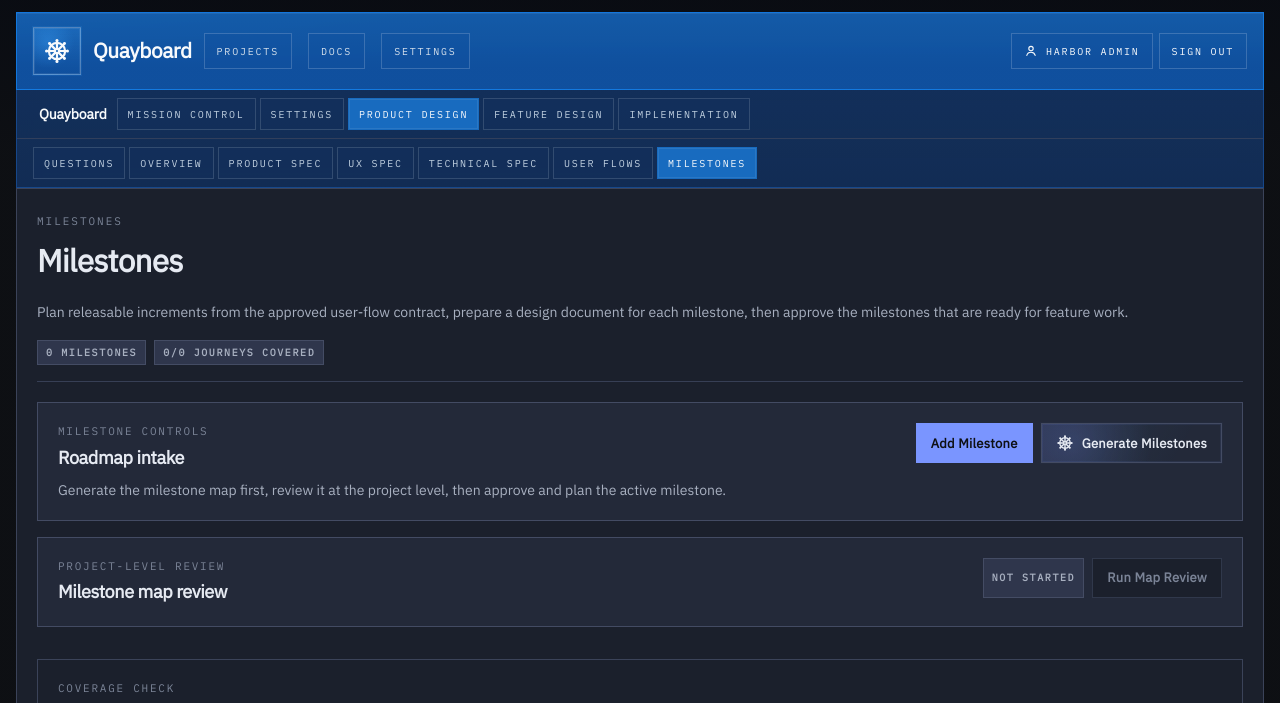
Scenario: workflow pages › reveals the create milestone panel and submits linked flows as checkboxes
Expected: the heading "Milestones" is shown, [37, 240, 183, 280]
Expected: the field labelled "Title" is not shown
Click the button "Add Milestone" at (974, 443), box [916, 423, 1033, 463]
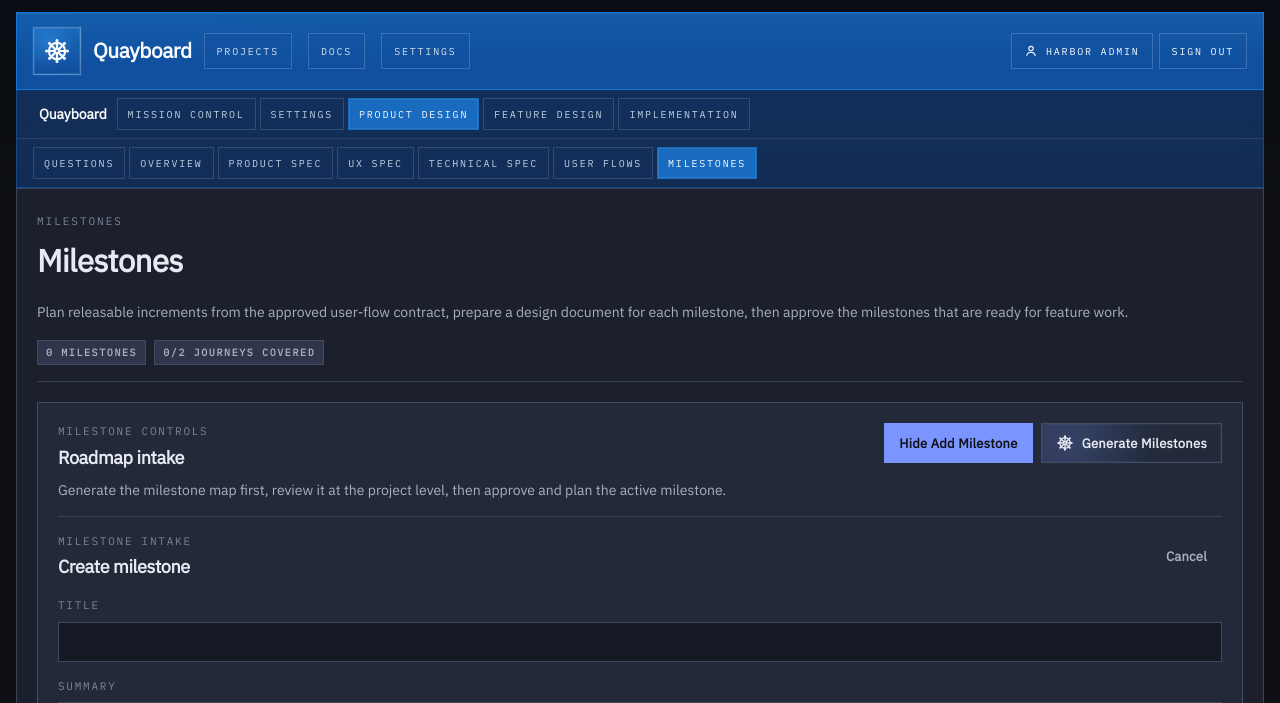
Result: the field labelled "Title" is shown
Type "Release Foundations" into the field labelled "Title" at (640, 642), box [58, 622, 1222, 662]
(page scrolled)
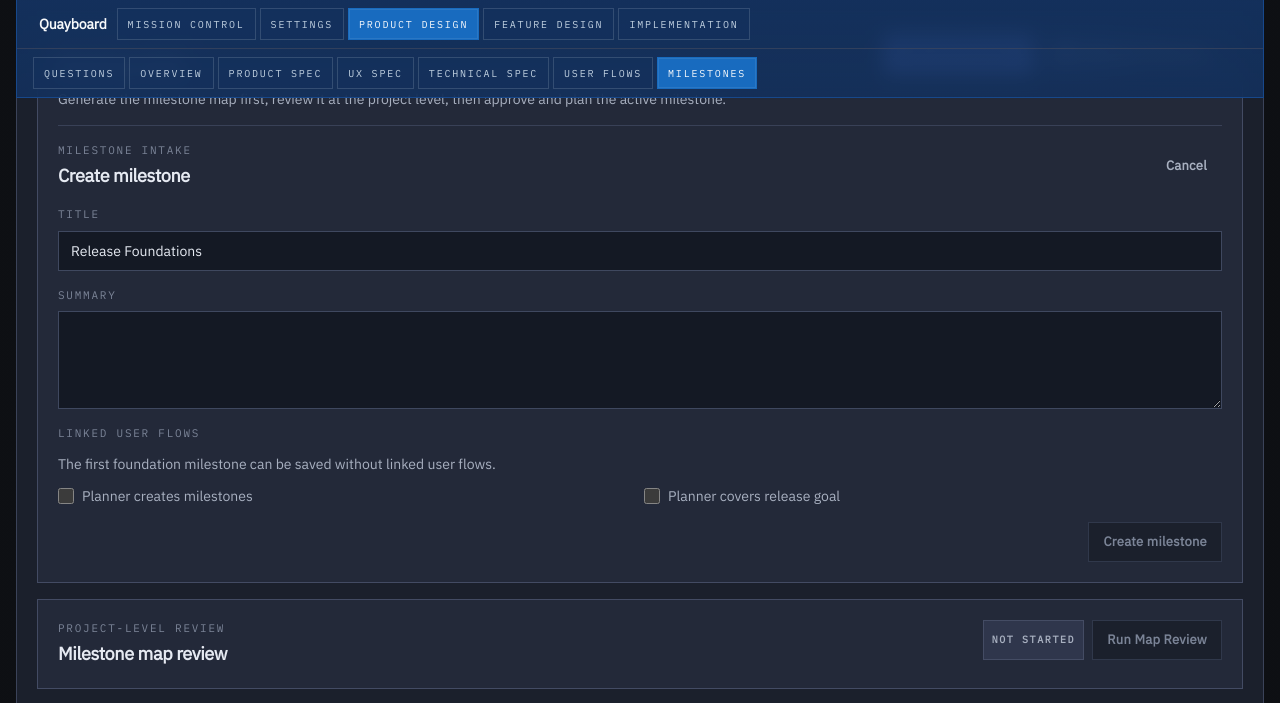
Type "Ship the first release increment." into the text box labelled "Summary" at (640, 360), box [58, 311, 1222, 409]
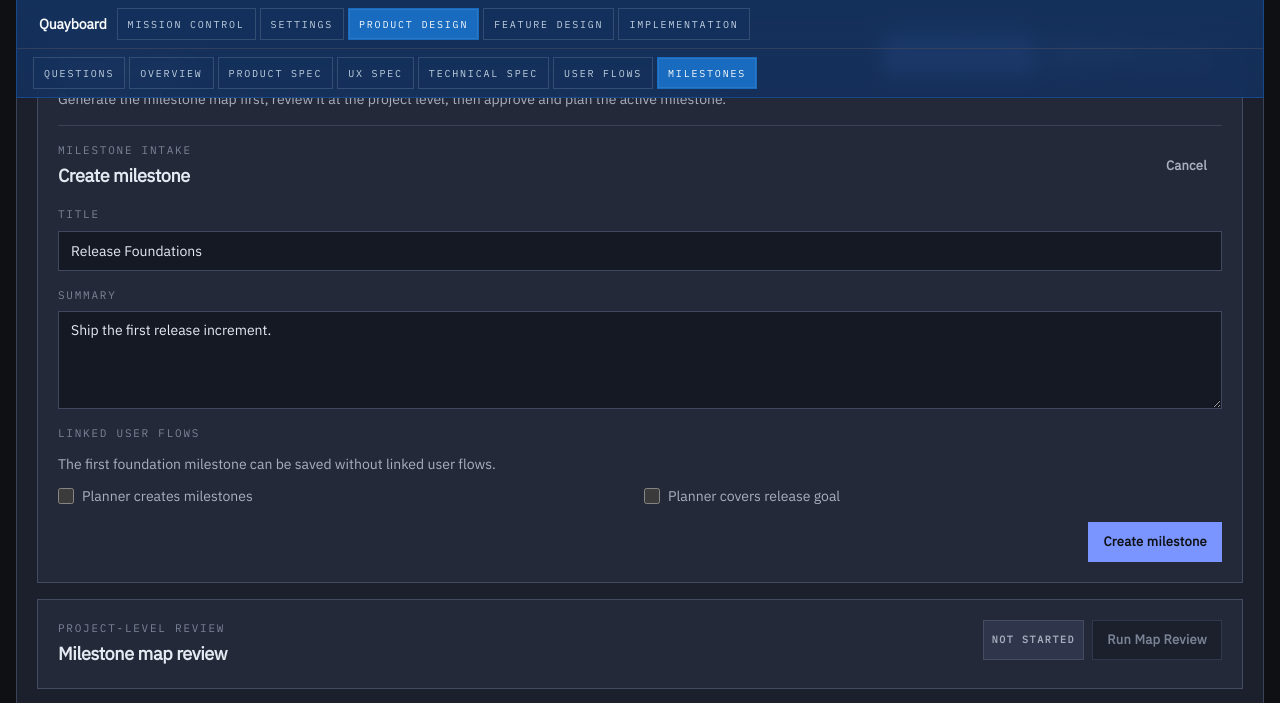
Click the checkbox labelled "Planner creates milestones" at (66, 496), box [58, 488, 74, 504]
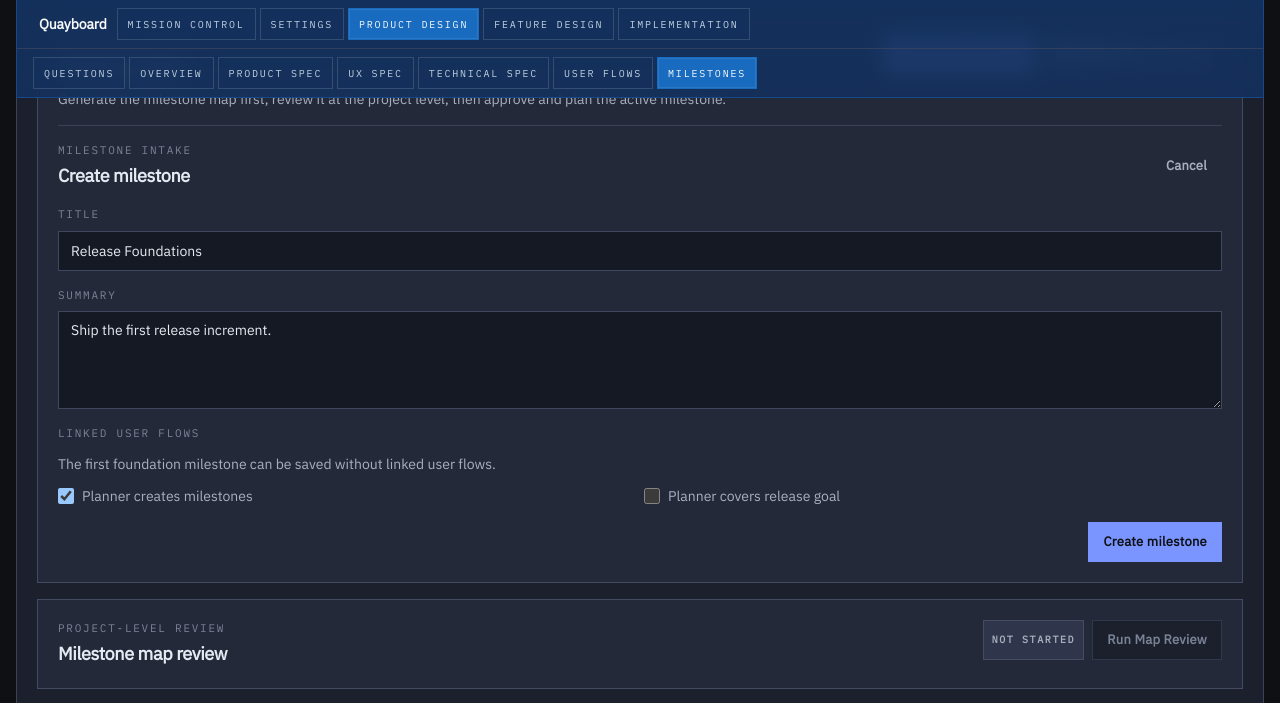
Click the checkbox labelled "Planner covers release goal" at (652, 496), box [644, 488, 660, 504]
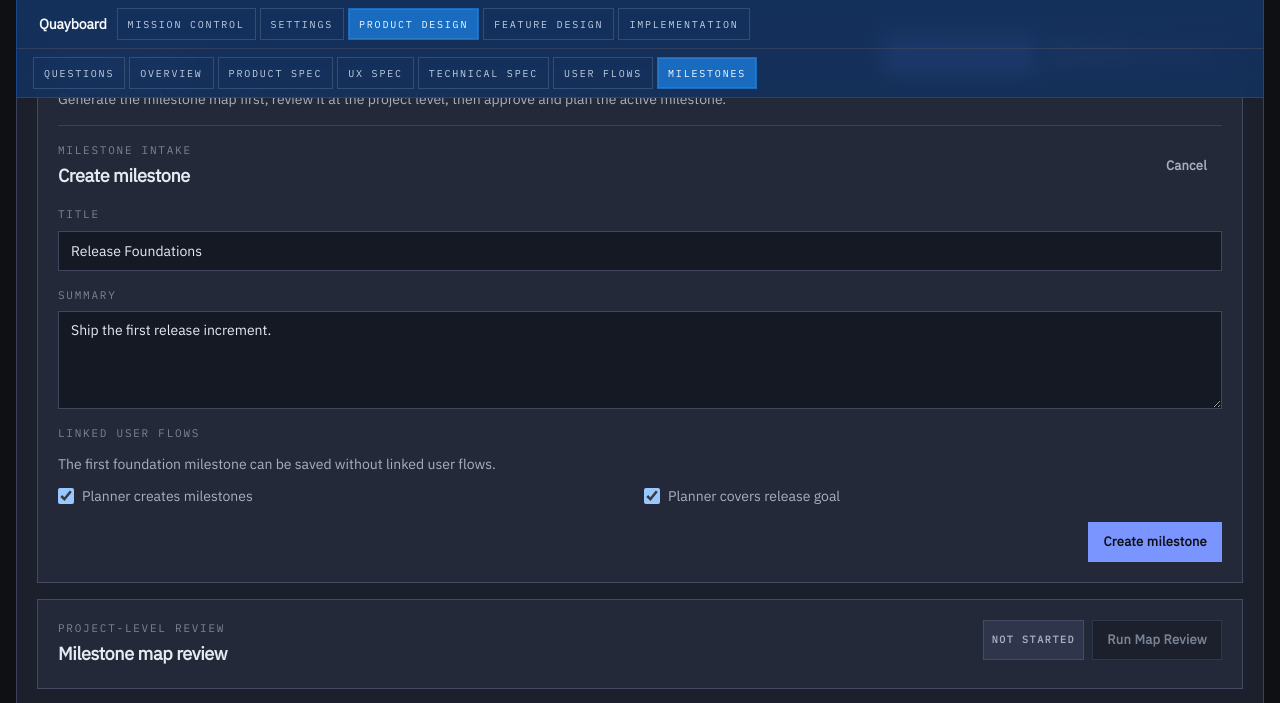
Click the button "Create milestone" at (1155, 542), box [1088, 522, 1222, 562]
(page scrolled)
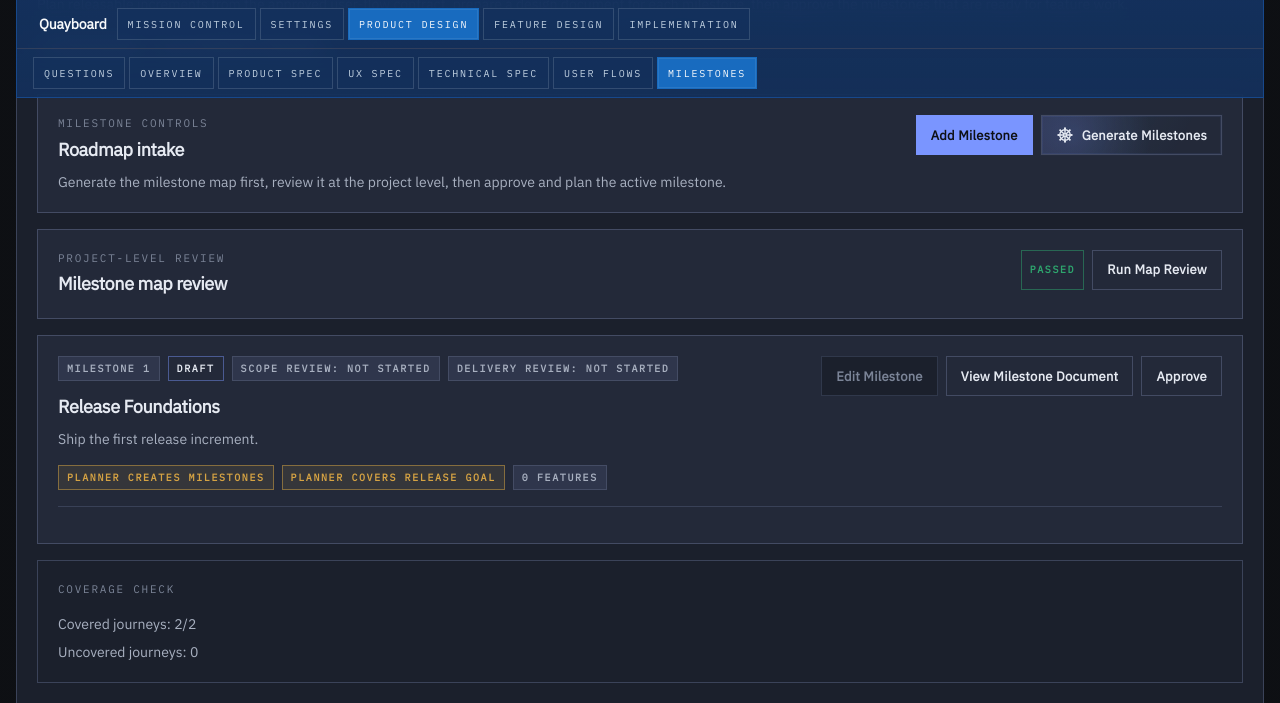
Result: the label "Title" is gone
Result: the text "Release Foundations" is shown at [58, 395, 220, 418]
